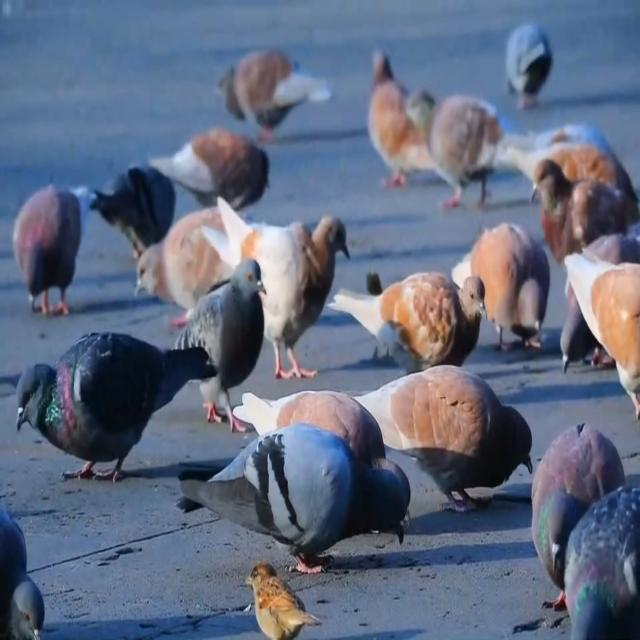bird: (0, 310, 223, 517), (168, 408, 408, 589), (342, 342, 534, 532), (236, 381, 414, 560), (312, 248, 486, 409), (160, 230, 273, 446), (512, 387, 629, 589), (143, 92, 286, 236), (532, 459, 640, 640), (232, 196, 324, 406), (438, 200, 554, 363), (124, 181, 251, 329), (206, 26, 336, 162), (474, 128, 639, 218), (362, 32, 444, 212), (83, 141, 183, 287), (521, 126, 635, 251), (559, 222, 640, 375), (3, 174, 83, 328), (0, 483, 78, 640), (280, 186, 357, 296), (227, 550, 321, 640), (494, 4, 558, 116)
